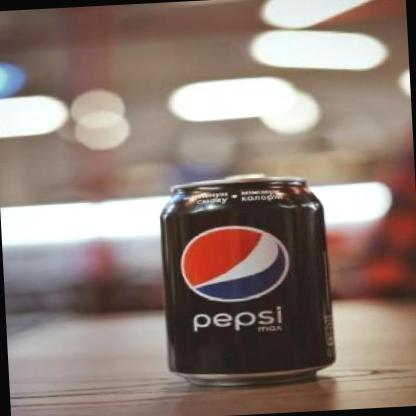alumunium_can: (156, 170, 339, 390)
